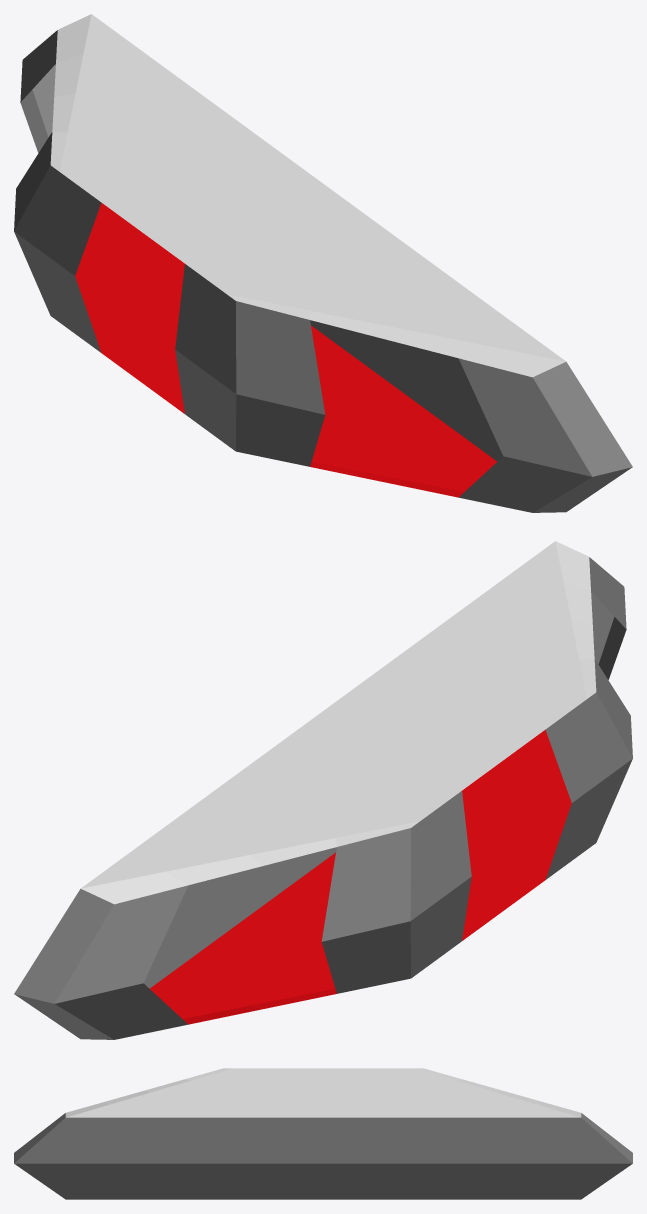
Rendered from storage.fbx.
The picture shows the model from 3 angles, top to bottom: view 1: azimuth 30°, elevation 25°; view 2: azimuth 150°, elevation 25°; view 3: azimuth 270°, elevation 25°; orthographic projection. The views are drawn at different scales.
Visible parts, largest first — view 1: Storage Receptor; view 2: Storage Receptor; view 3: Storage Receptor.
Part boxes in pixels (x1=…): Storage Receptor: x1=14, y1=14, x2=632, y2=512; Storage Receptor: x1=14, y1=541, x2=632, y2=1039; Storage Receptor: x1=14, y1=1068, x2=632, y2=1199.
Size of the model in its own units: 660 by 426 by 2921.
